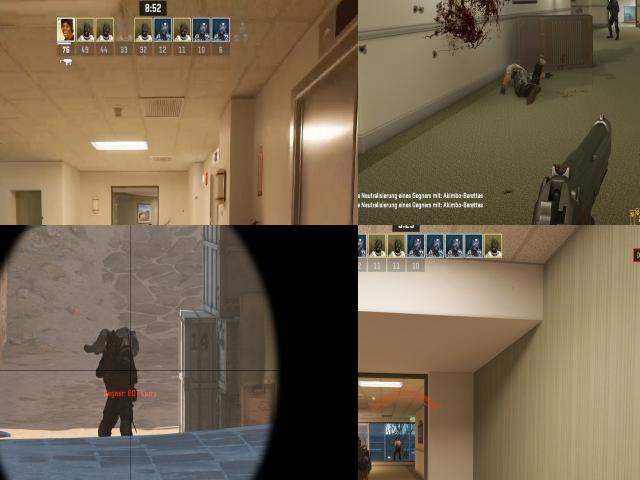CT: (98, 336, 135, 434), (358, 434, 371, 480), (608, 0, 618, 37)
CT-Head: (107, 334, 119, 354), (358, 433, 362, 453)
Dead: (90, 326, 140, 352), (502, 64, 544, 94)
T: (392, 436, 401, 461)
T-Head: (396, 437, 398, 442)
